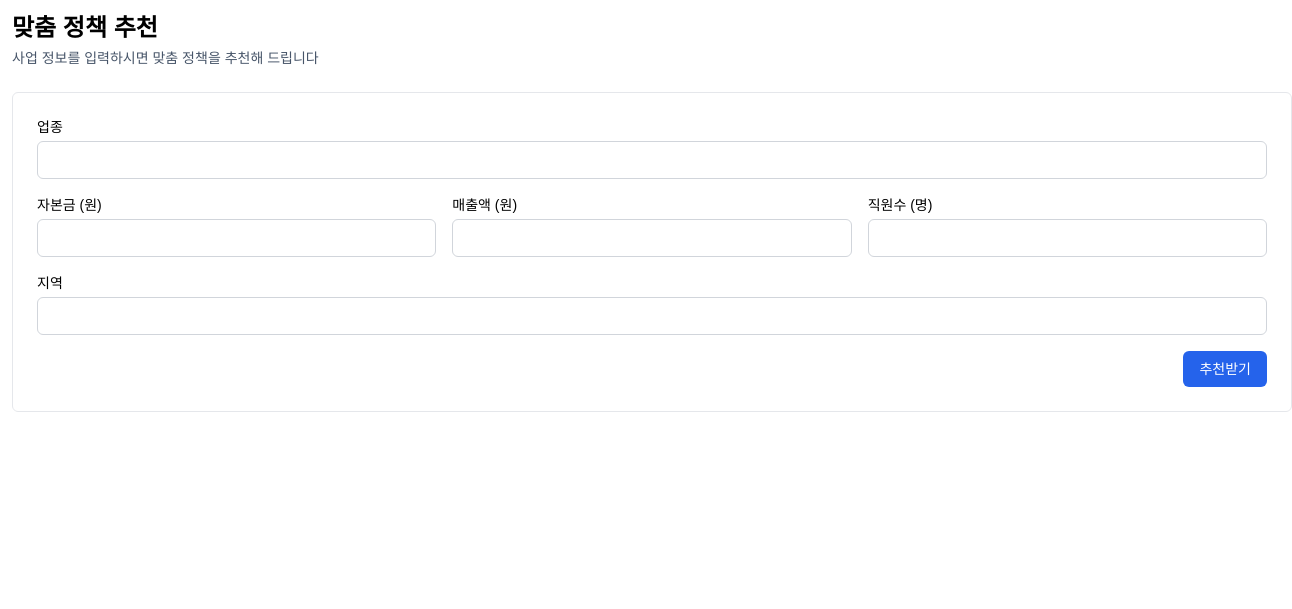
Test case: PolicyMatchView — C-03 익명 매칭 + SPEC-CMS-AI-002 하이브리드 › AC-PM-009: degraded=true면 폴백 배너를 표시한다
Type "IT" into the field with test id "match-industry-input" at (652, 160), box [37, 141, 1267, 179]
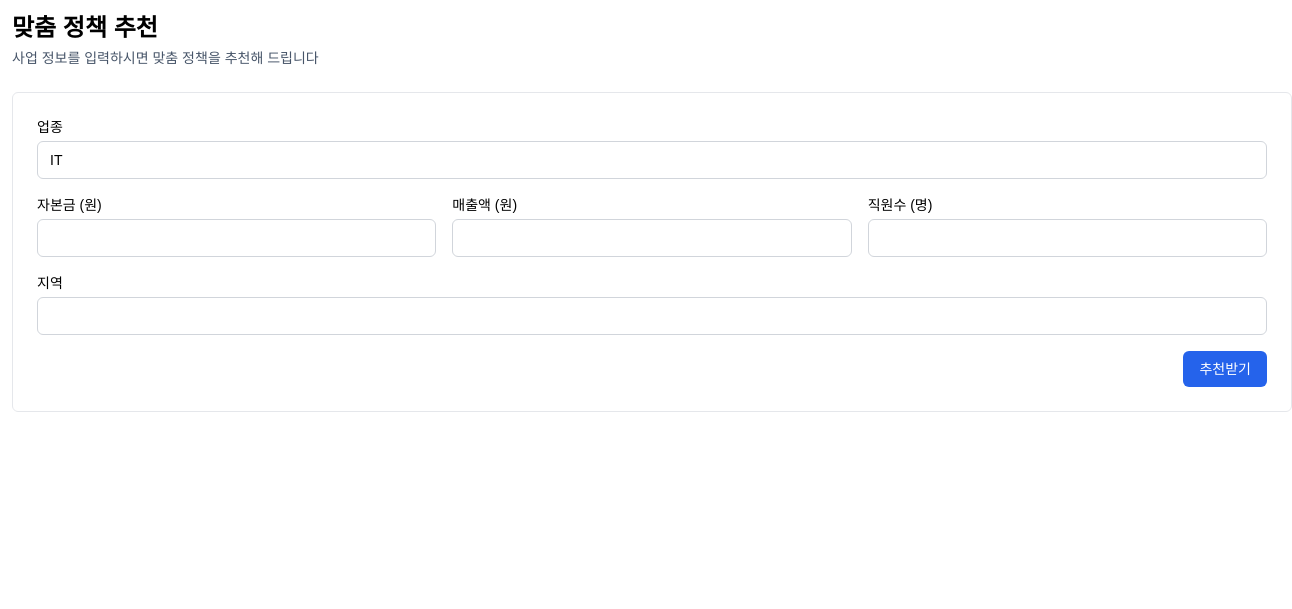
Submit the form with test id "policy-match-form", box [12, 92, 1291, 412]
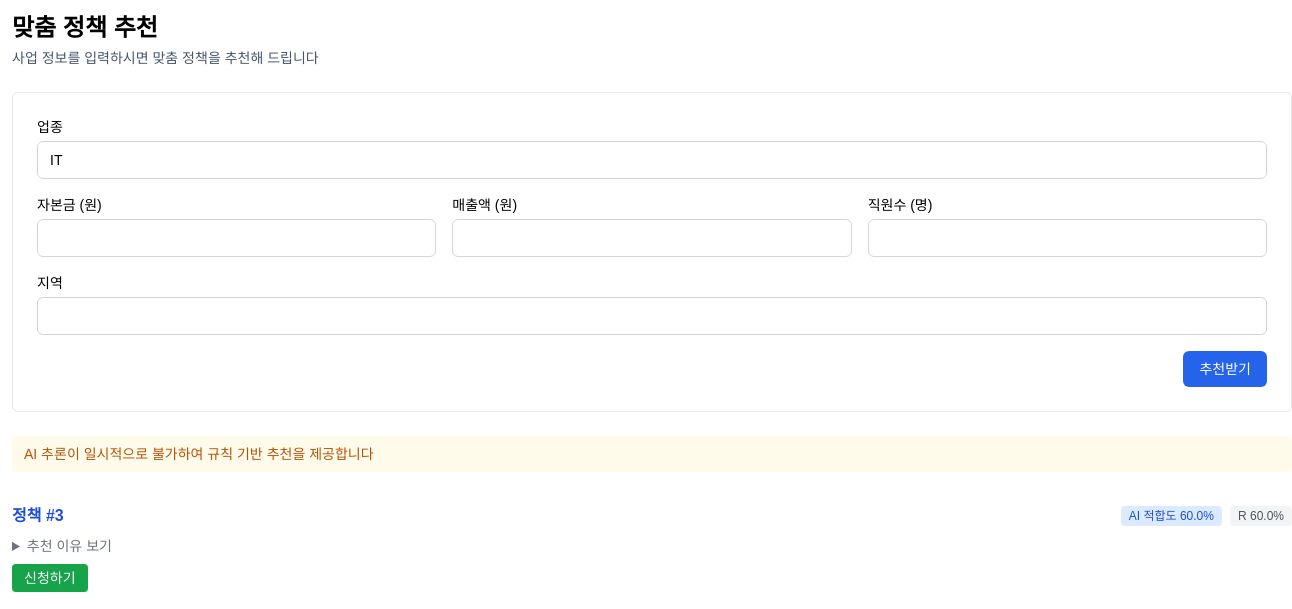
Now the text "AI 추론이 일시적으로 불가하여 규칙 기반 추천을 제공합니다" is shown, box [12, 436, 1291, 472]
